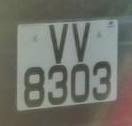0: (68, 60, 93, 107)
3: (45, 62, 72, 110), (89, 59, 114, 105)
8: (20, 60, 48, 112)
V: (46, 18, 71, 68), (69, 18, 94, 65)
